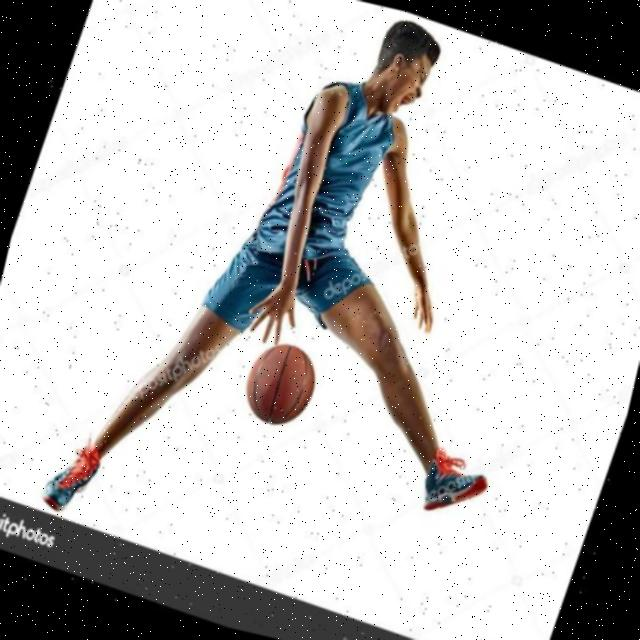ball: (234, 334, 325, 434)
